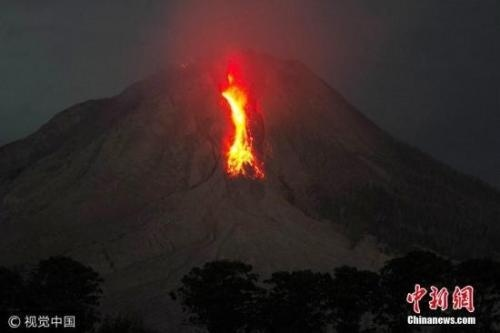fire: (217, 68, 261, 176)
